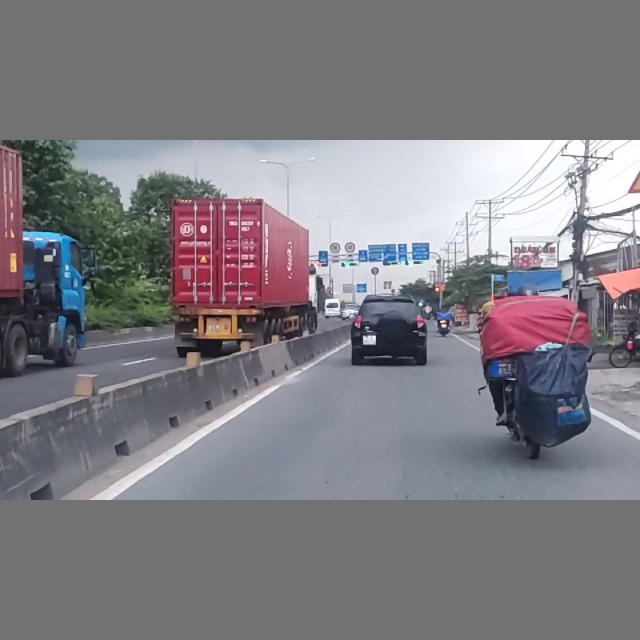P.127*60: (343, 241, 356, 254)
P.127*80: (330, 243, 340, 253)
